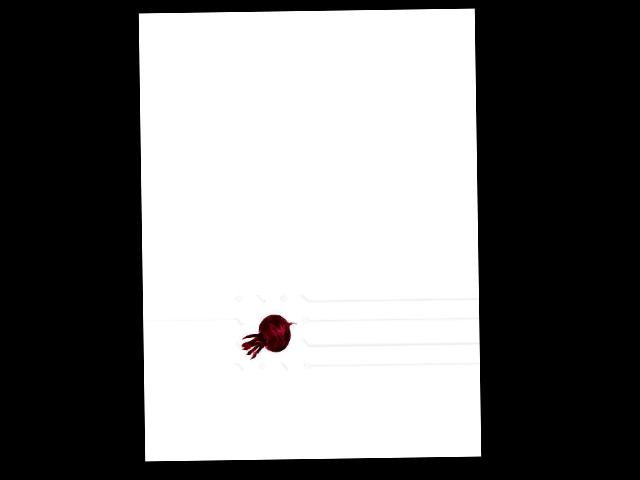beet: (241, 314, 297, 359)
